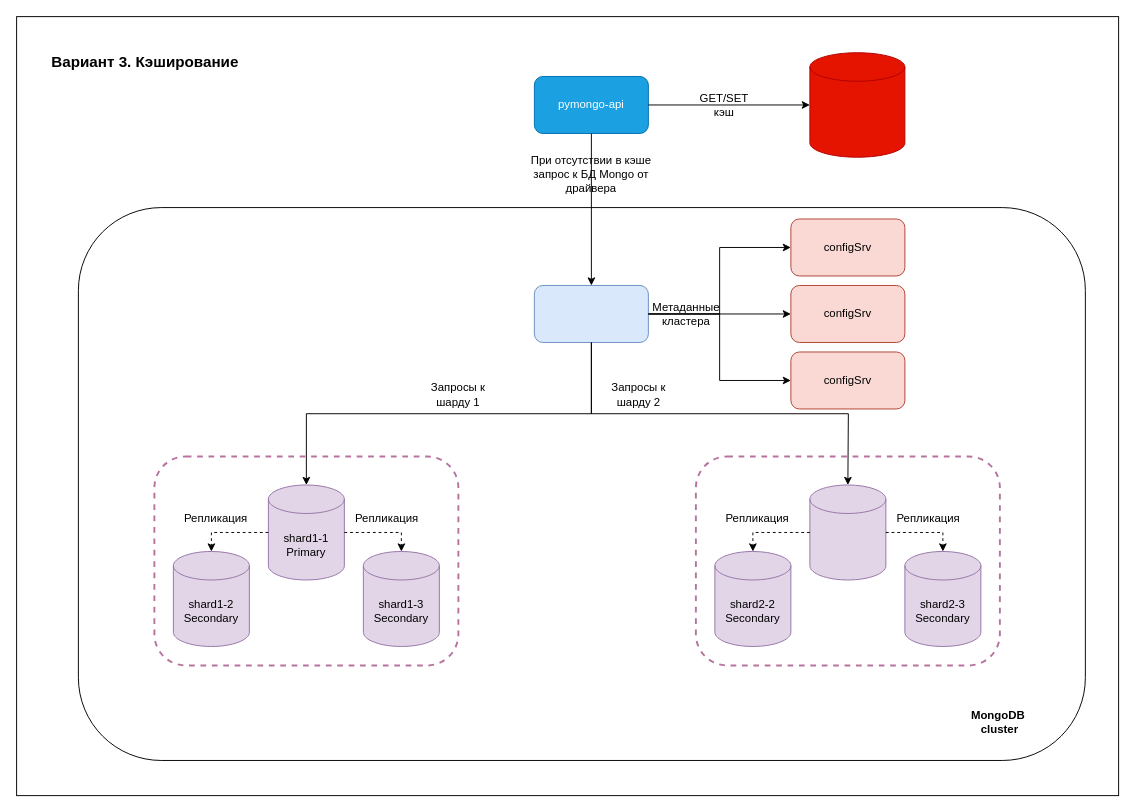
Image size: 1135x812. Some labels were removed from this diagram. Here are the shapes that lost their labels. From the top down, the box of each, then its label:
(809, 52, 905, 157): Кэш (Redis)
(533, 285, 648, 342): mongos_router
(809, 484, 886, 580): shard2-1 Primary
(153, 455, 459, 666): Shard1 Replica Set(RS1)
(694, 455, 1000, 666): Shard2 Replica Set(RS2)
